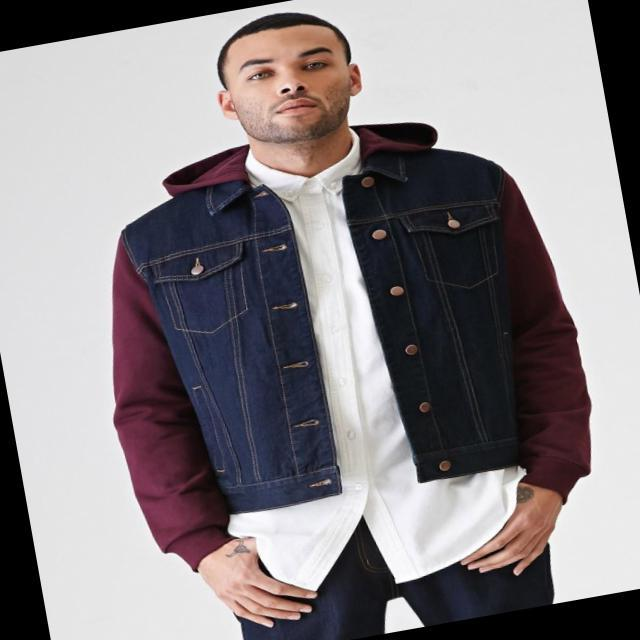jacket: (122, 144, 523, 486)
short sleeve shirt: (226, 129, 548, 600)
sweater: (110, 117, 593, 575)
trousers: (233, 485, 558, 640)
